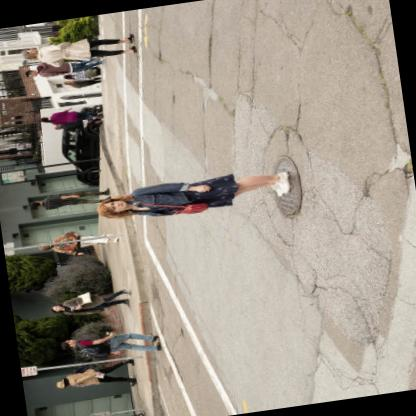manholes: (240, 142, 318, 232)
